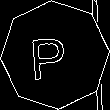P_N: (35, 28, 75, 82)
